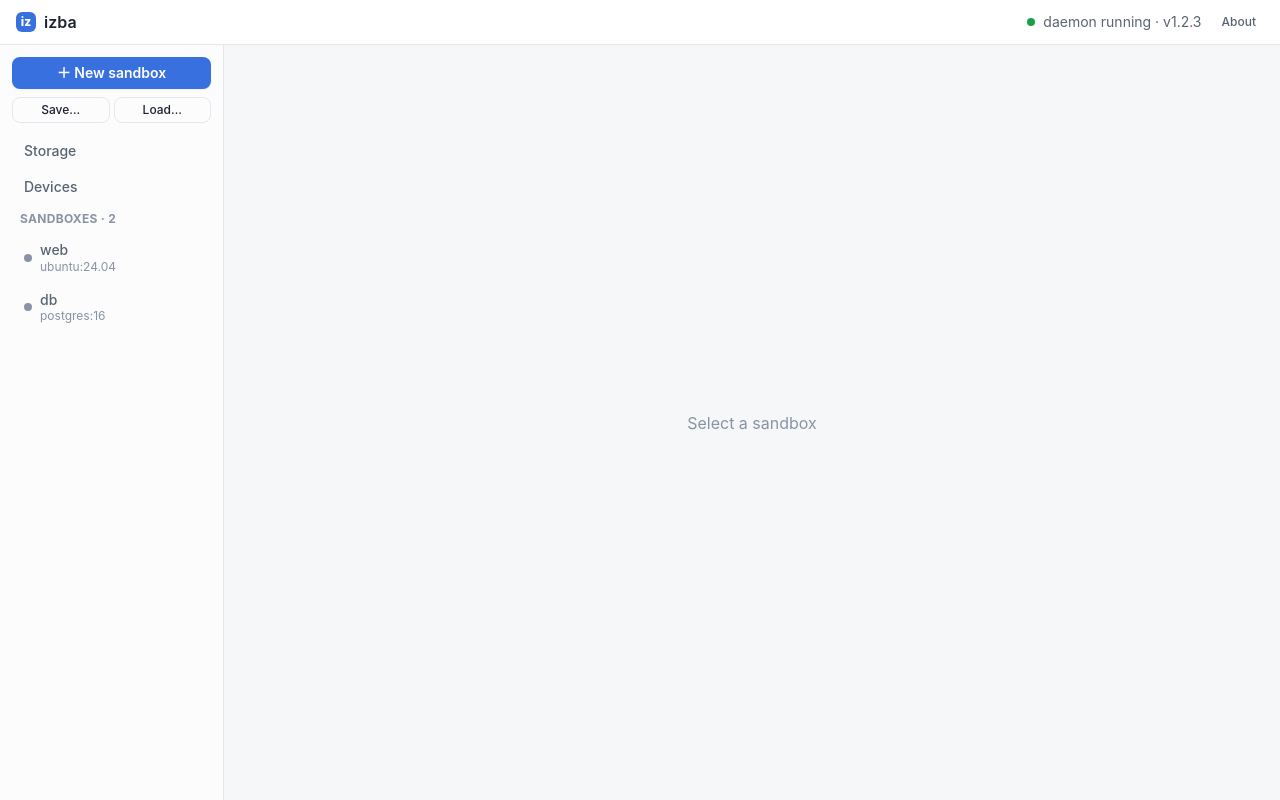
App save/load archive wiring › refuses in the dialog a name the host already has
This screenshot has width=1280, height=800.
Check: the text "db" is shown, box [40,290,57,308]
Click the button with aria-label "Load archive": (162, 110) [114,97,211,123]
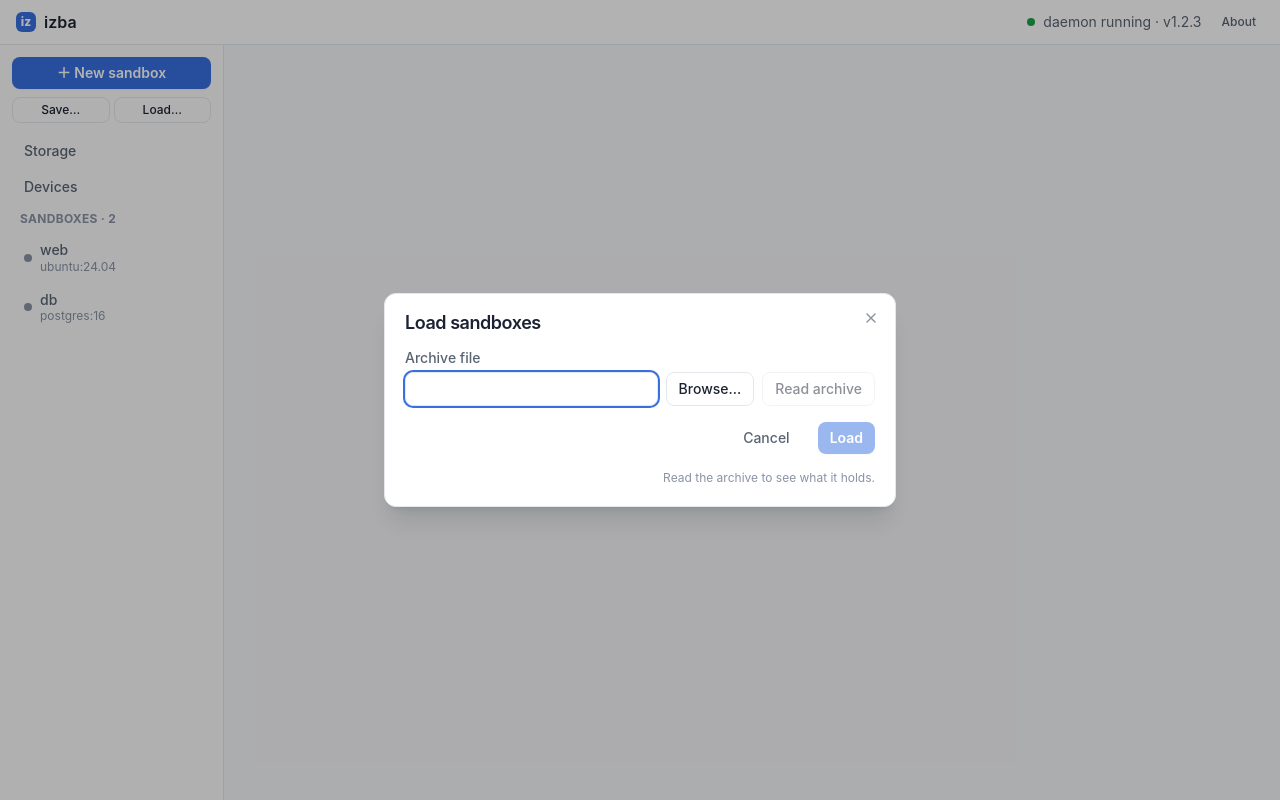
In the field labelled "Archive file": (531, 389) [405,372,658,406], type "/in/a.izba"
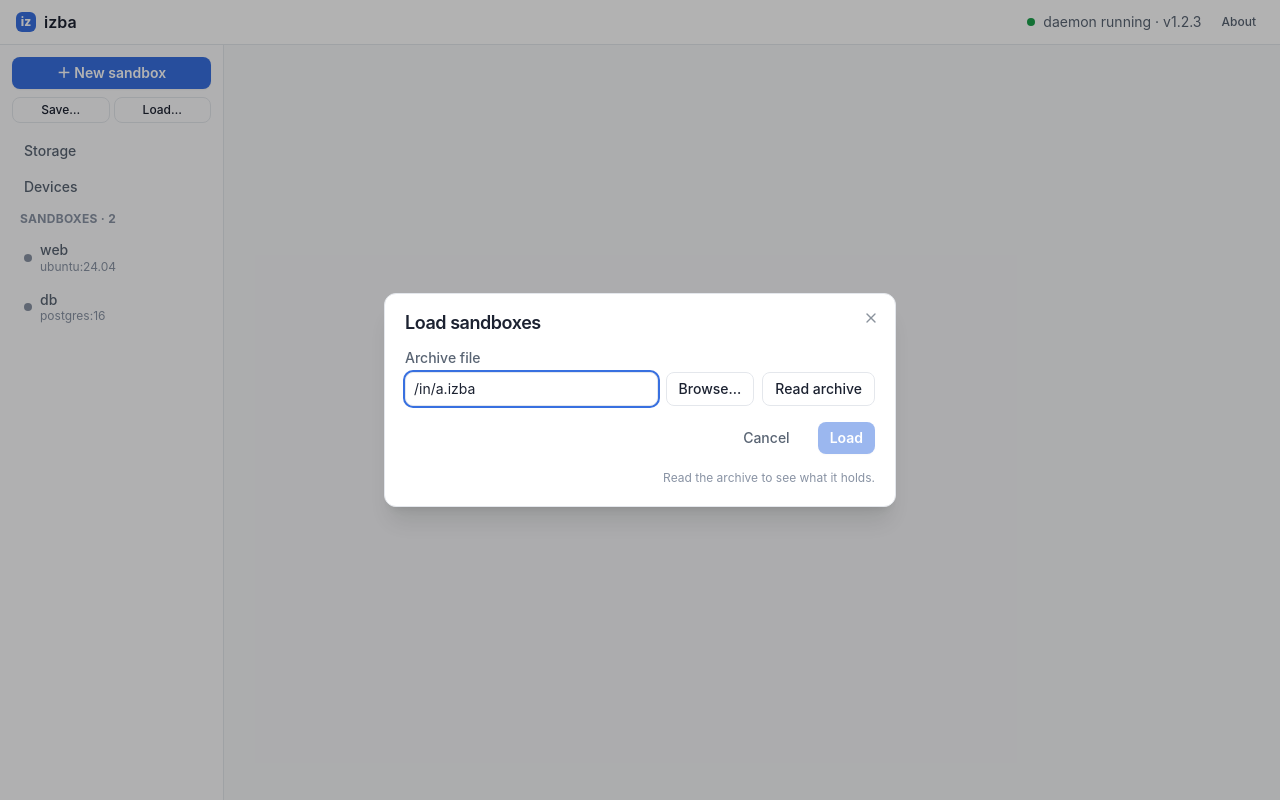
Click the button "Read archive": (819, 389) [762,372,875,406]
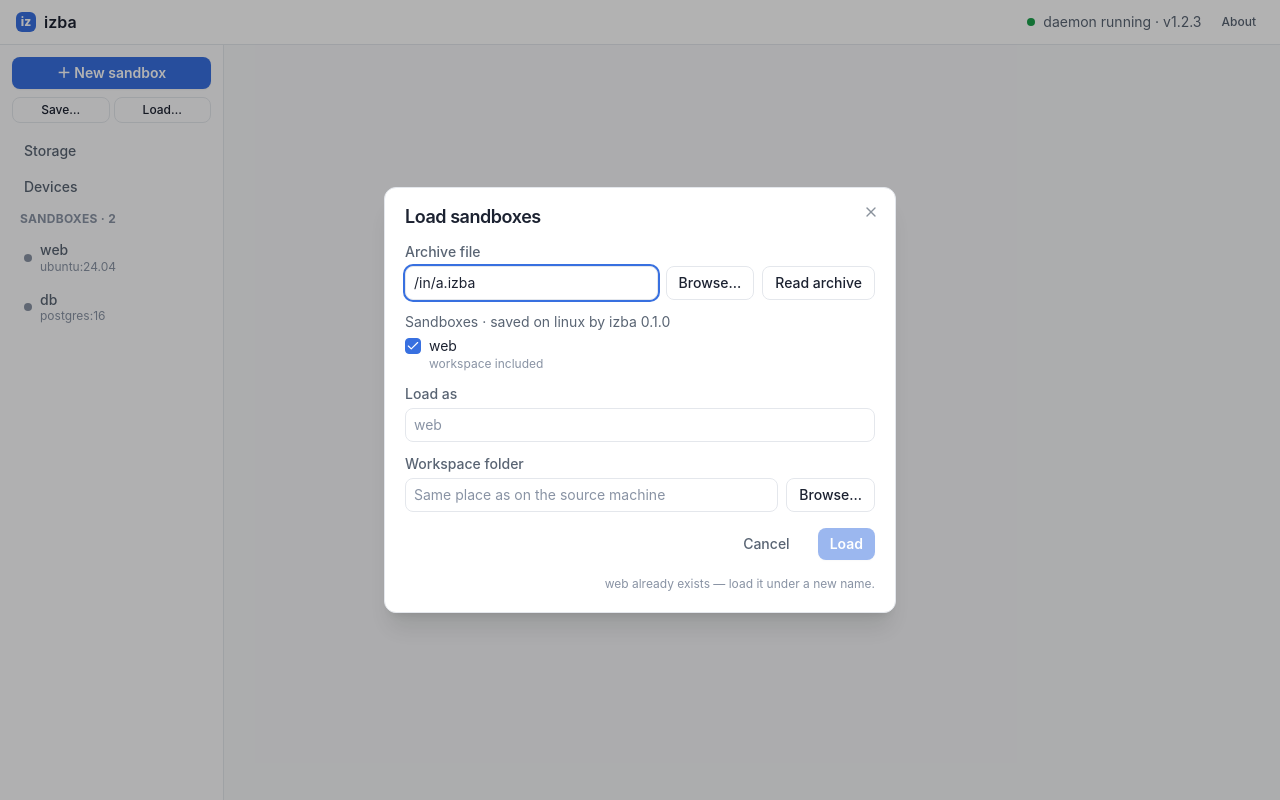
Check: the button "Load" is disabled, box [818,528,875,560]
Check: the text "web already exists — load it under a new name." is shown, box [605,576,875,591]
